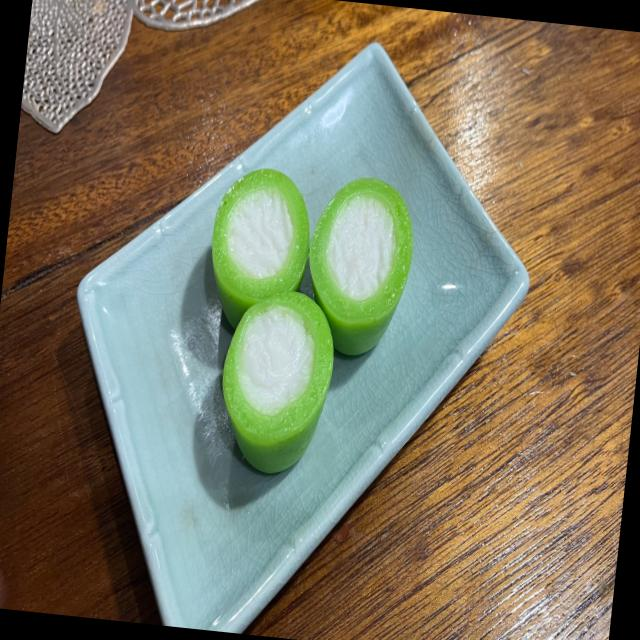nona-manis: (222, 291, 333, 474), (309, 177, 413, 355), (211, 168, 309, 327)
